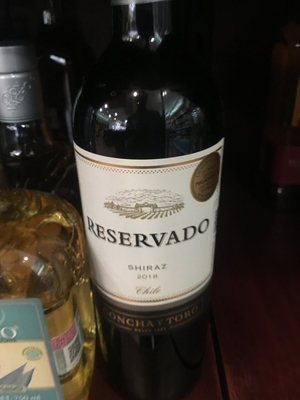reservado shiraz: (70, 11, 238, 359)
